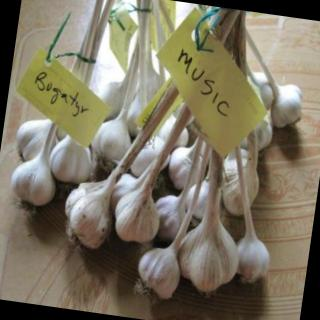Bawang Putih: (174, 217, 245, 298), (60, 178, 118, 252), (113, 187, 164, 246), (9, 152, 61, 207), (136, 243, 184, 300), (90, 114, 135, 166), (233, 234, 275, 285)
